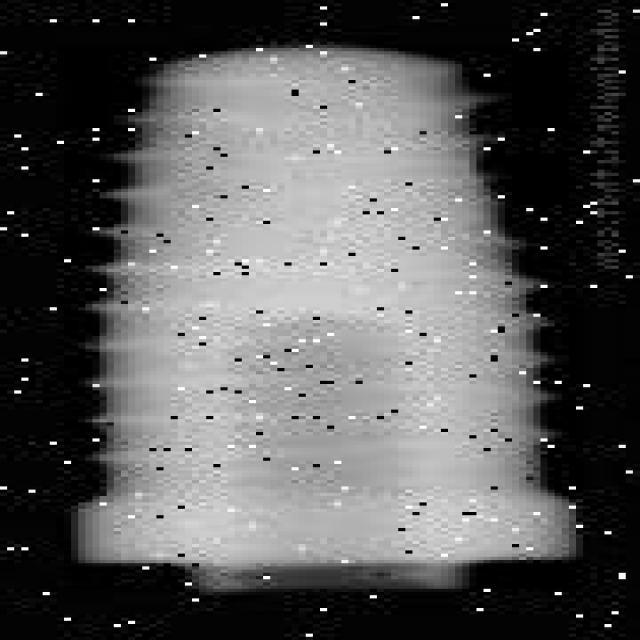Retained root: (42, 36, 584, 606)
